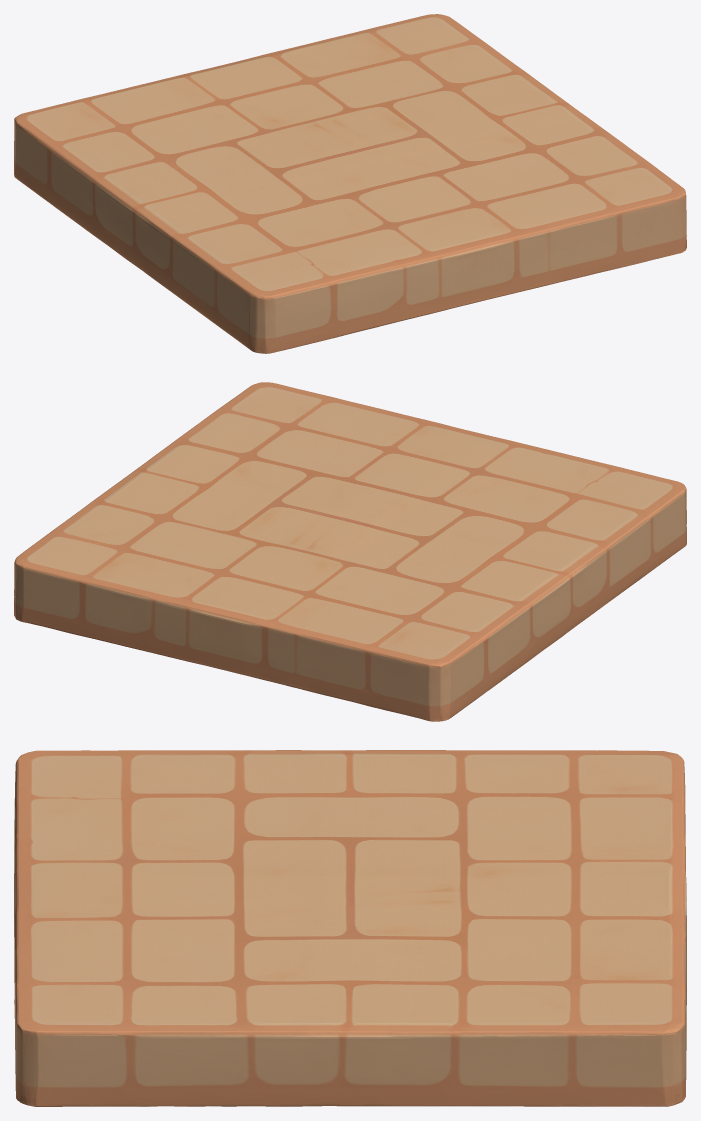
3 views of the same model, one above another, from view 1: azimuth 30°, elevation 25°; view 2: azimuth 150°, elevation 25°; view 3: azimuth 270°, elevation 25° (orthographic). The views are drawn at different scales.
Parts seen in each view (by area): view 1: world; view 2: world; view 3: world.
Boxes of the visible parts, x1,y1,x2,y2 form: world: [14, 14, 686, 353]; world: [14, 382, 686, 721]; world: [14, 750, 686, 1106].
Size of the model in its own units: 99.8 by 13.43 by 99.87.
Materials: 1 (1 with a texture image).
